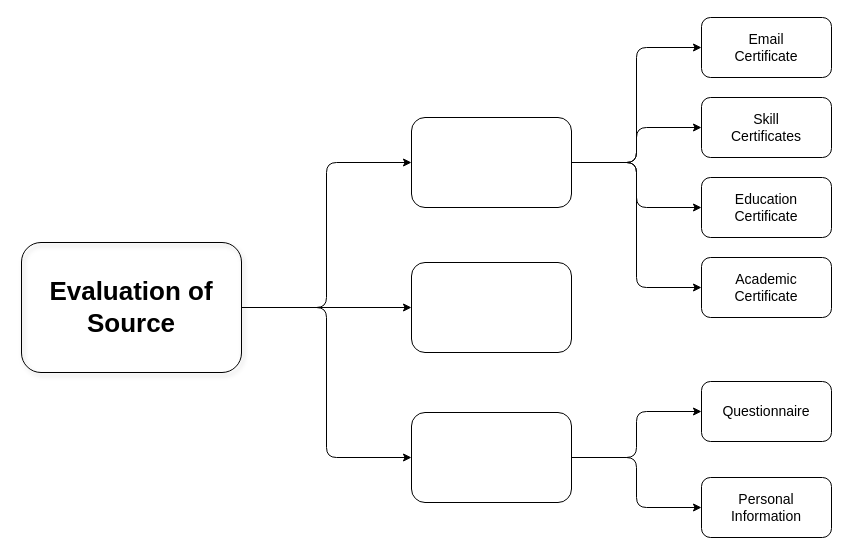
Image size: 849x555. Some labels were removed from this diagram. Each missing label, with the centre of its shape:
Accuracy of Previous reported news: the point at 491,307
Measure Political Ideology: the point at 491,457
Personal Certificates: the point at 491,162
